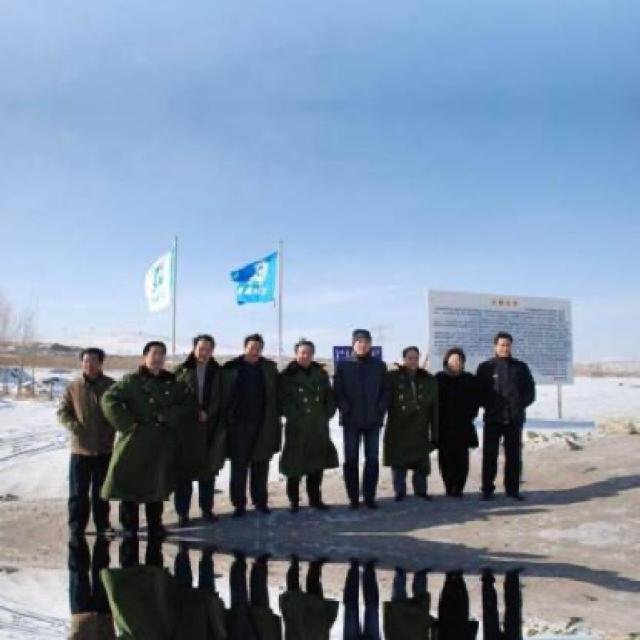sin casco: (47, 341, 116, 400), (217, 329, 289, 376), (127, 334, 183, 389), (383, 343, 443, 391), (279, 328, 328, 386), (343, 316, 388, 375), (185, 320, 222, 369), (442, 337, 466, 390), (498, 333, 512, 368)
